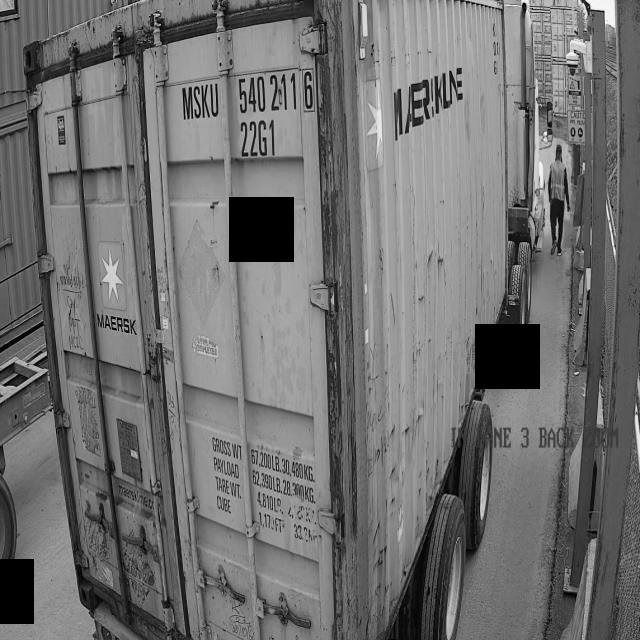container_company_logo: (390, 48, 469, 162), (83, 220, 146, 345)
container_number: (177, 64, 316, 167)
driver: (544, 140, 566, 244)
other_container_info: (201, 425, 322, 562)
truck_trailer: (0, 352, 50, 589)
truck_with_container: (23, 0, 544, 640)
